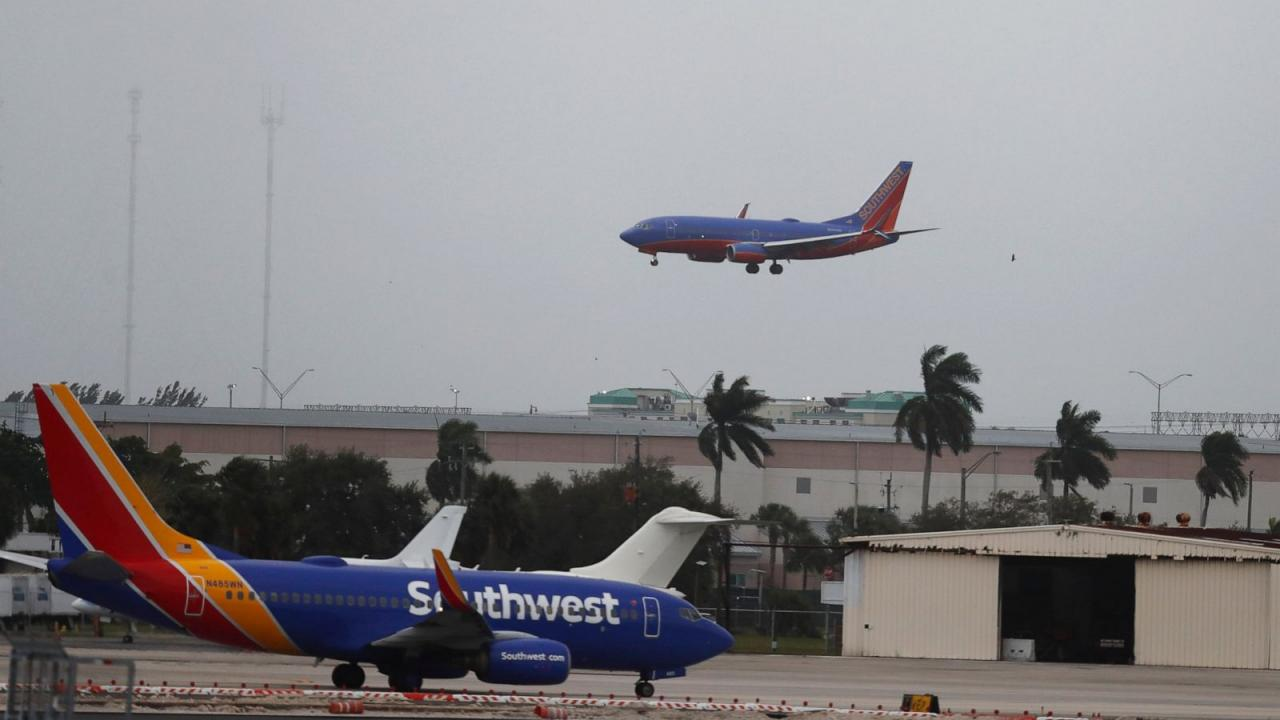Airplane: (22, 373, 766, 708), (612, 149, 951, 288)
